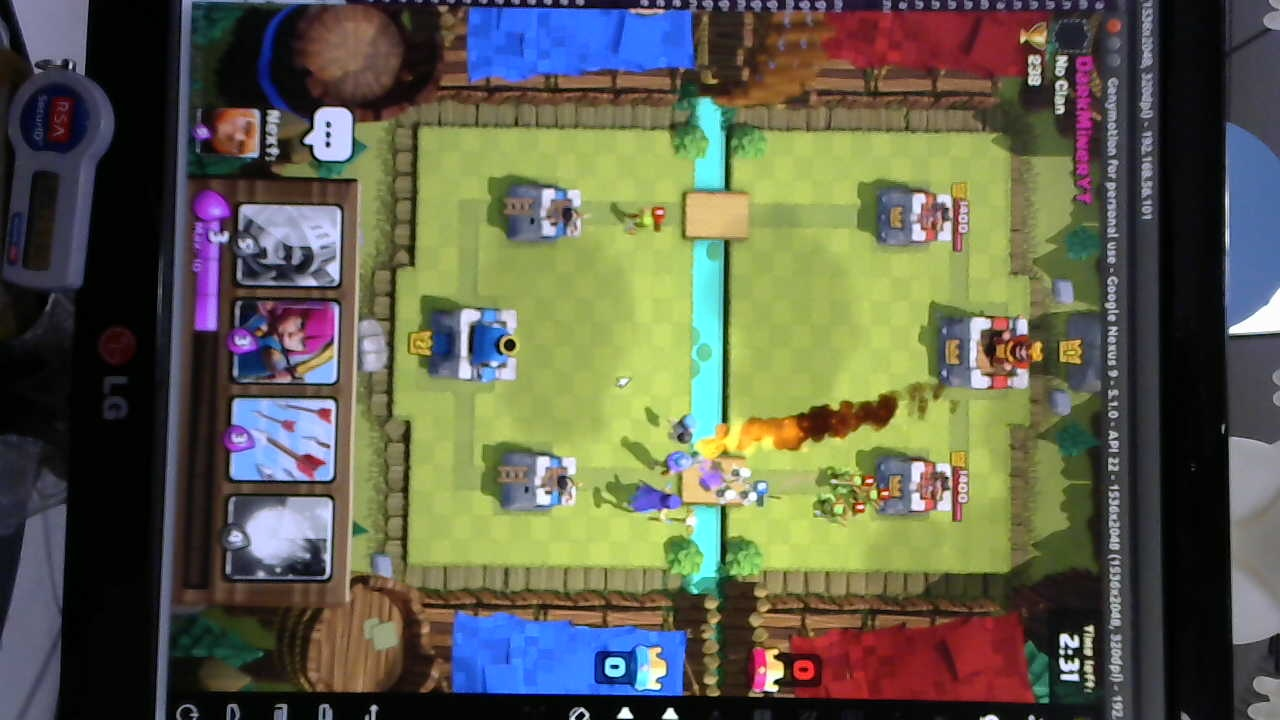arena: (501, 450, 580, 516), (504, 184, 585, 246)
bomb: (663, 410, 696, 451)
earena: (877, 457, 957, 519), (878, 188, 954, 242)
eking: (937, 312, 1040, 390)
goblin: (619, 201, 659, 239)
king: (435, 305, 519, 384)
musketeer: (652, 452, 710, 485)
skeleton: (712, 464, 769, 511)
speargoblins: (816, 461, 881, 524)
witch: (625, 484, 696, 528)
